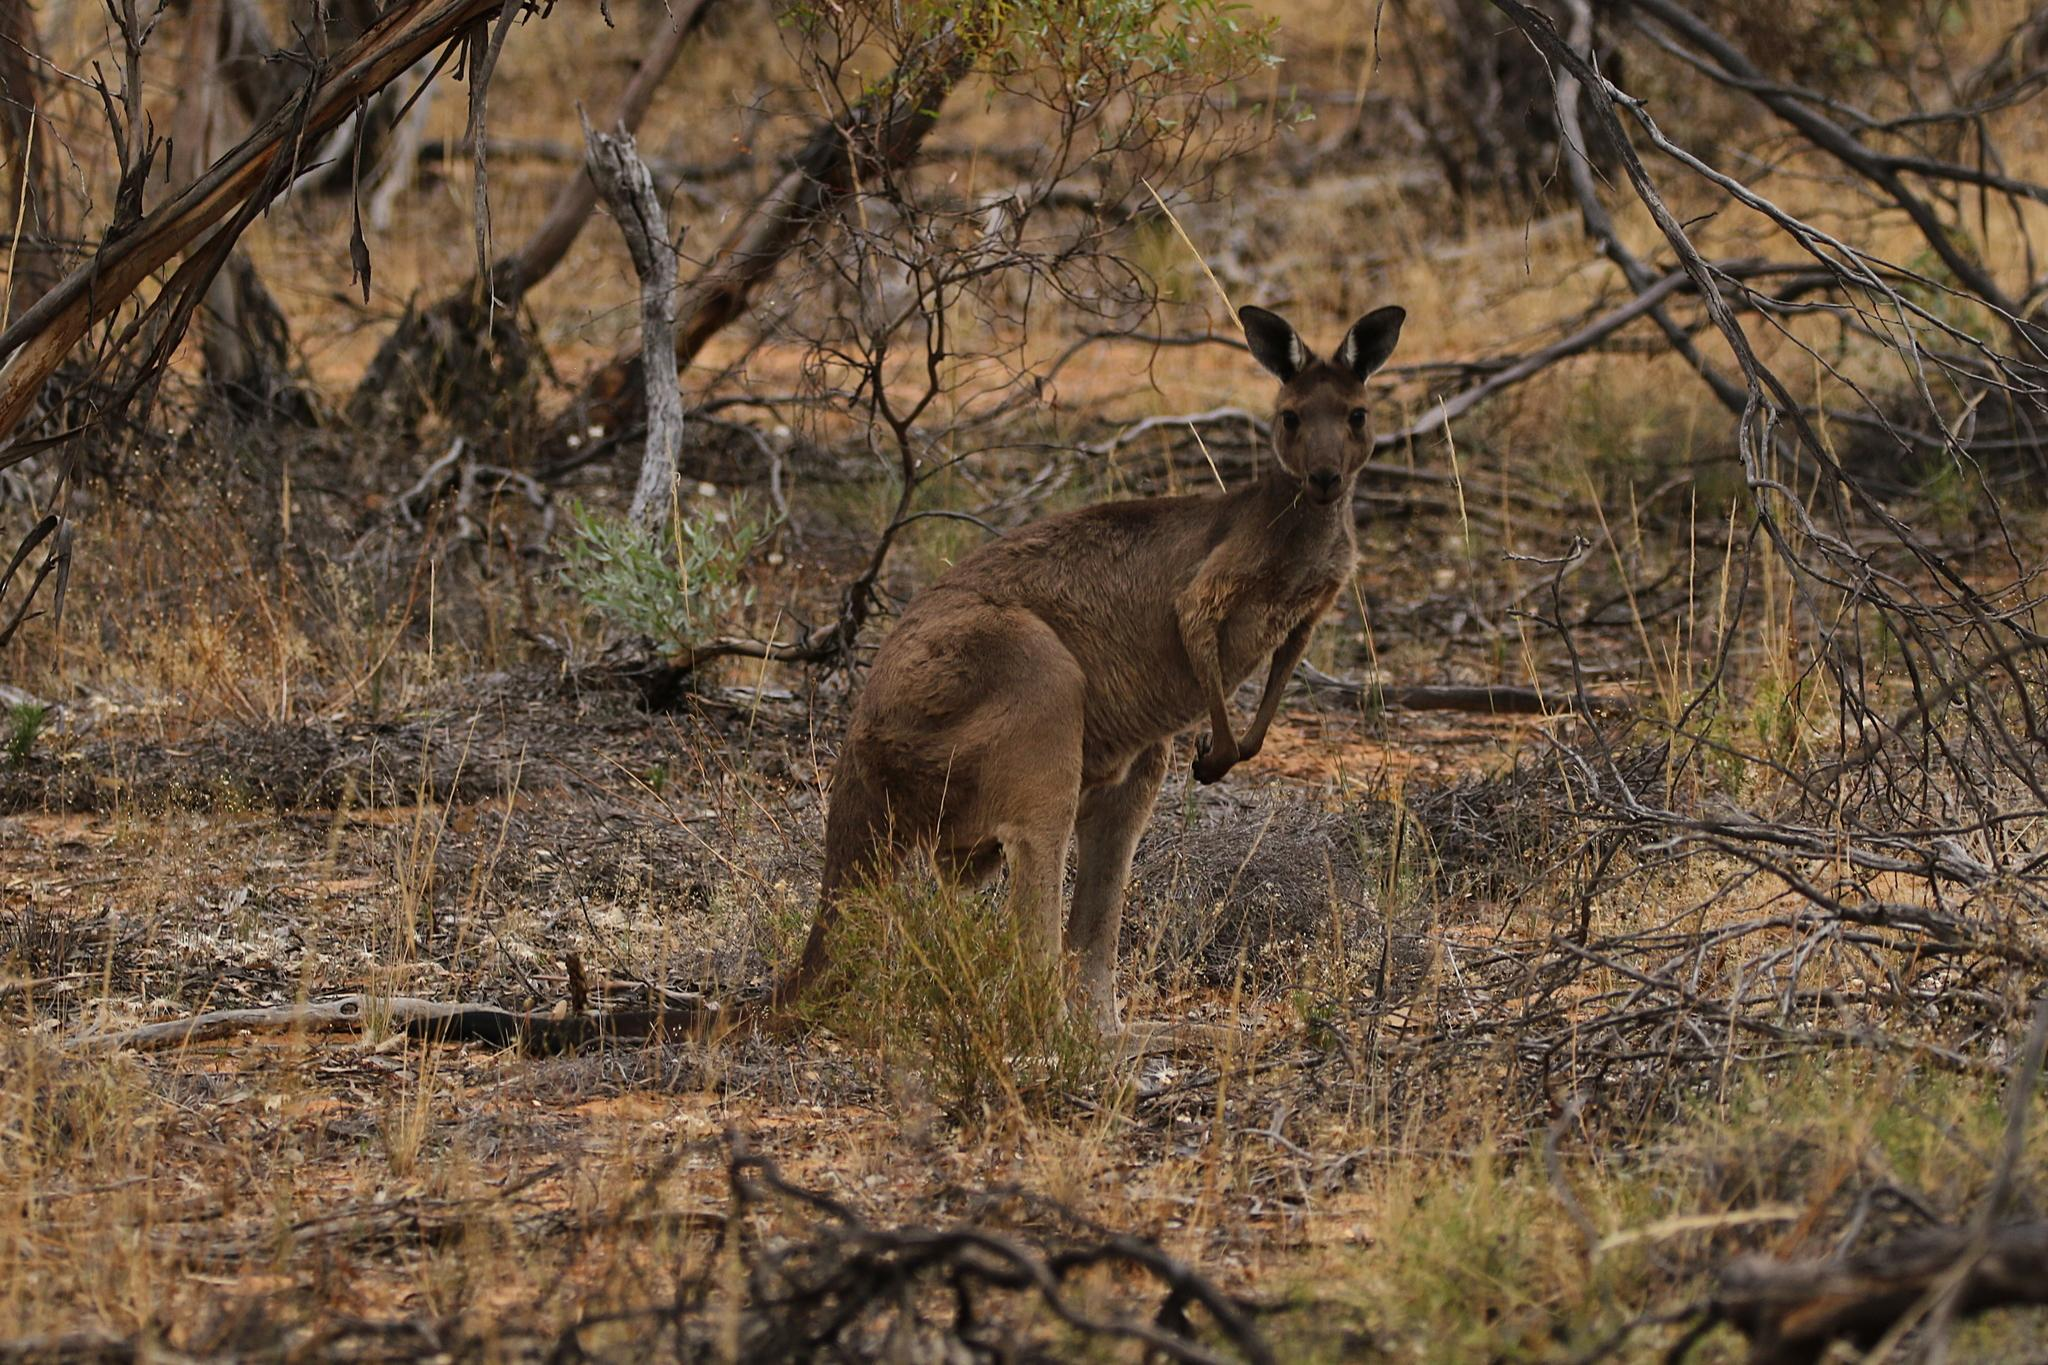Western grey kangaroo: (397, 305, 1412, 1057)
